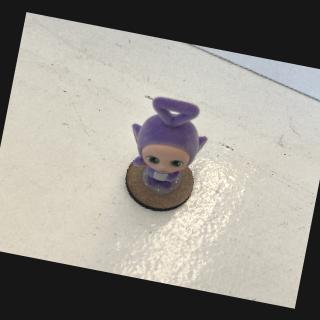teletubby: (132, 97, 207, 187)
